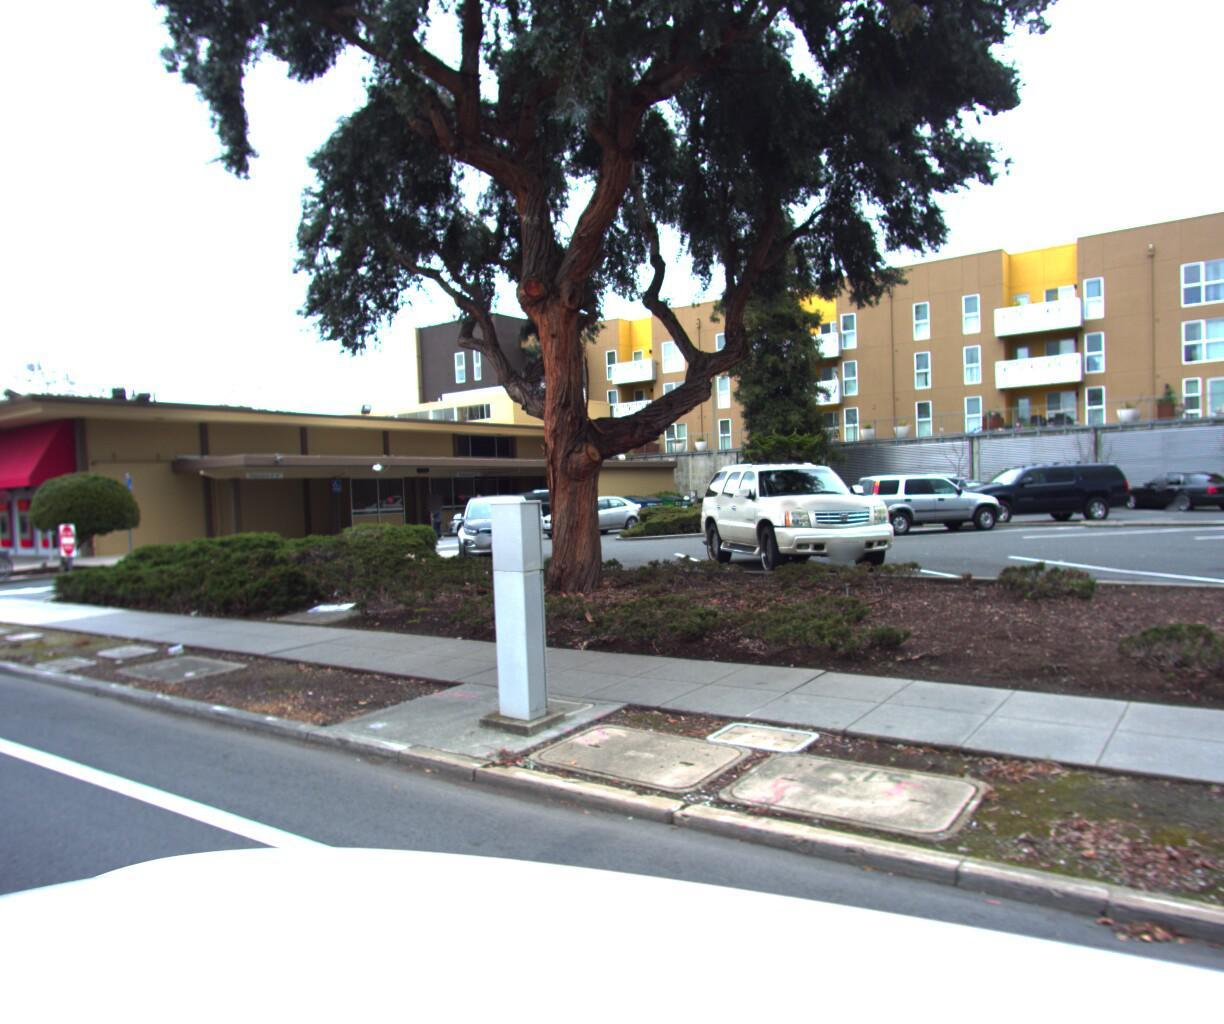bicycle: (0, 540, 29, 591)
car: (687, 448, 922, 588), (450, 488, 550, 569)
